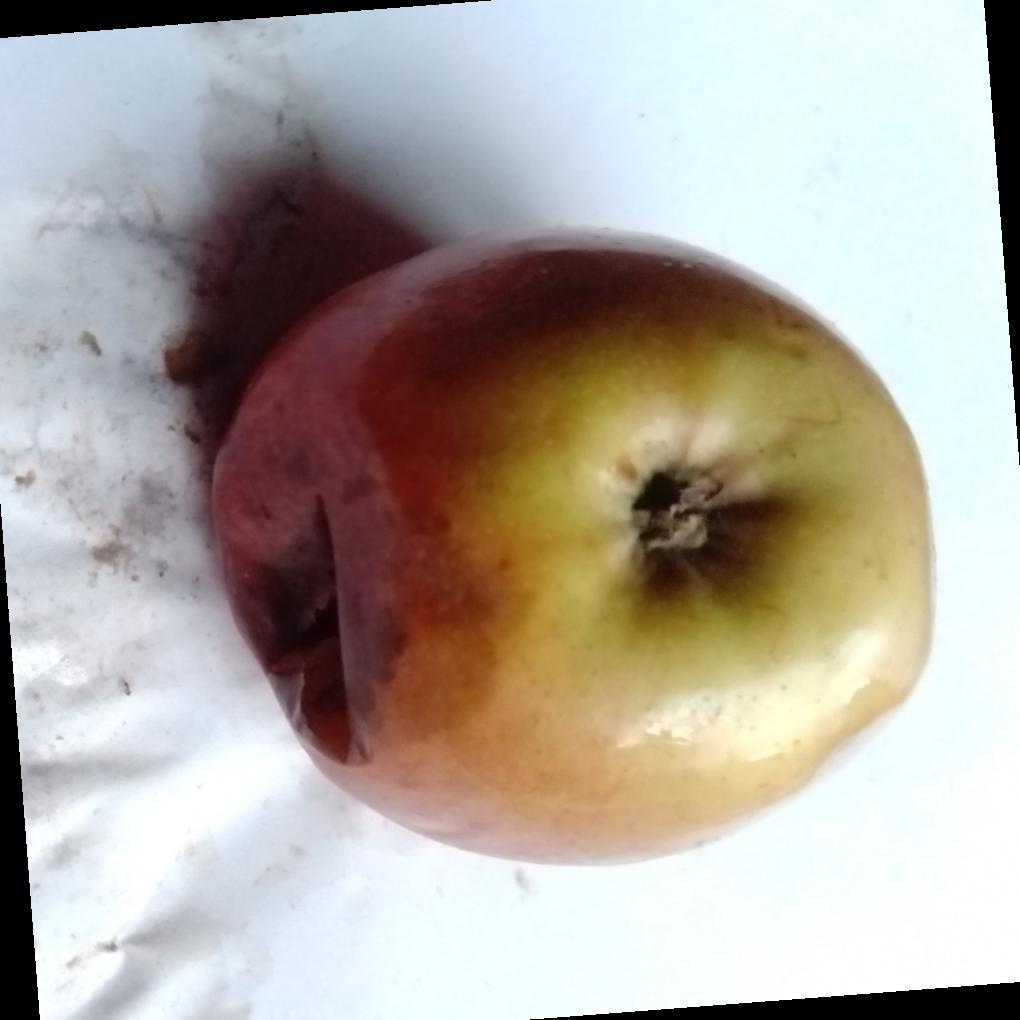FreshOrange: (206, 229, 938, 870)
